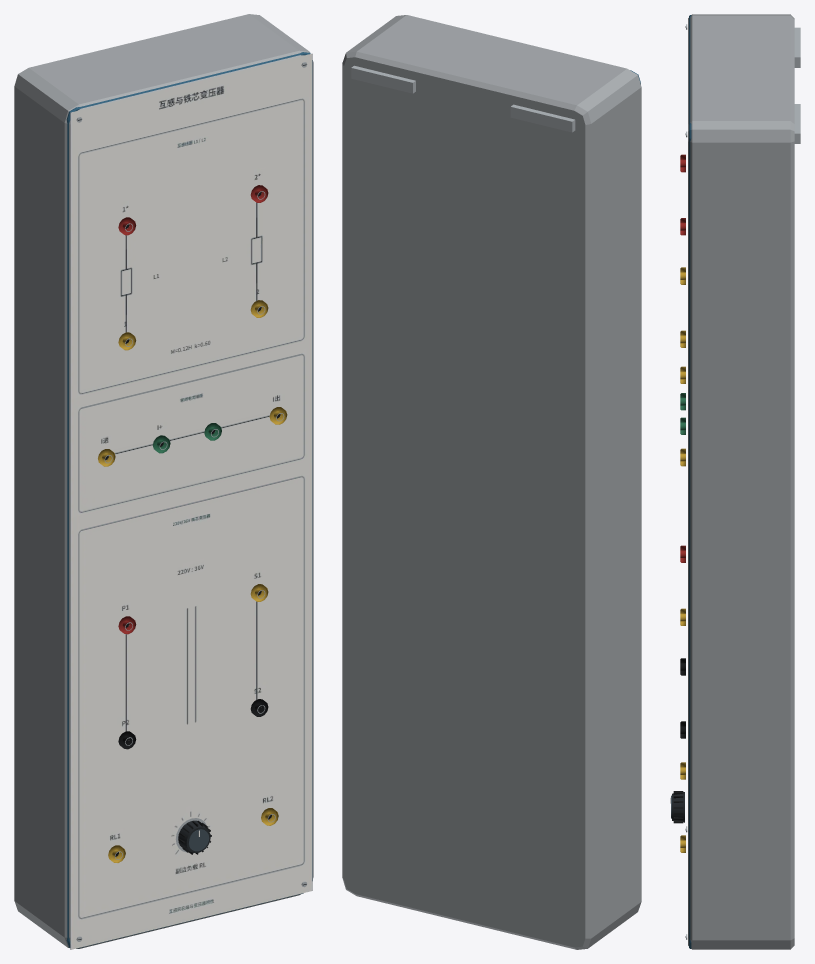
Rendered from module.glb.
The picture shows the model from 3 angles, left to right: view 1: azimuth 30°, elevation 25°; view 2: azimuth 150°, elevation 25°; view 3: azimuth 270°, elevation 25°; orthographic projection. The views are drawn at different scales.
Parts seen in each view (by area): view 1: PANEL_silkscreen, STATIC_paint, MOVING_SW_TLOAD_paint, STATIC_metal; view 2: STATIC_paint, STATIC_metal; view 3: STATIC_paint, STATIC_metal, MOVING_SW_TLOAD_paint.
Boxes of the visible parts, x1,y1,x2,y2 form: PANEL_silkscreen: [70, 53, 312, 949]; STATIC_paint: [14, 14, 313, 948]; MOVING_SW_TLOAD_paint: [178, 820, 211, 854]; STATIC_metal: [76, 62, 307, 941]; STATIC_paint: [342, 15, 641, 949]; STATIC_metal: [351, 65, 575, 132]; STATIC_paint: [680, 14, 794, 949]; STATIC_metal: [686, 24, 800, 939]; MOVING_SW_TLOAD_paint: [670, 791, 684, 823].
Size of the model in its own units: 0.145 by 0.47 by 0.0671.
4 materials, 1 textured.
